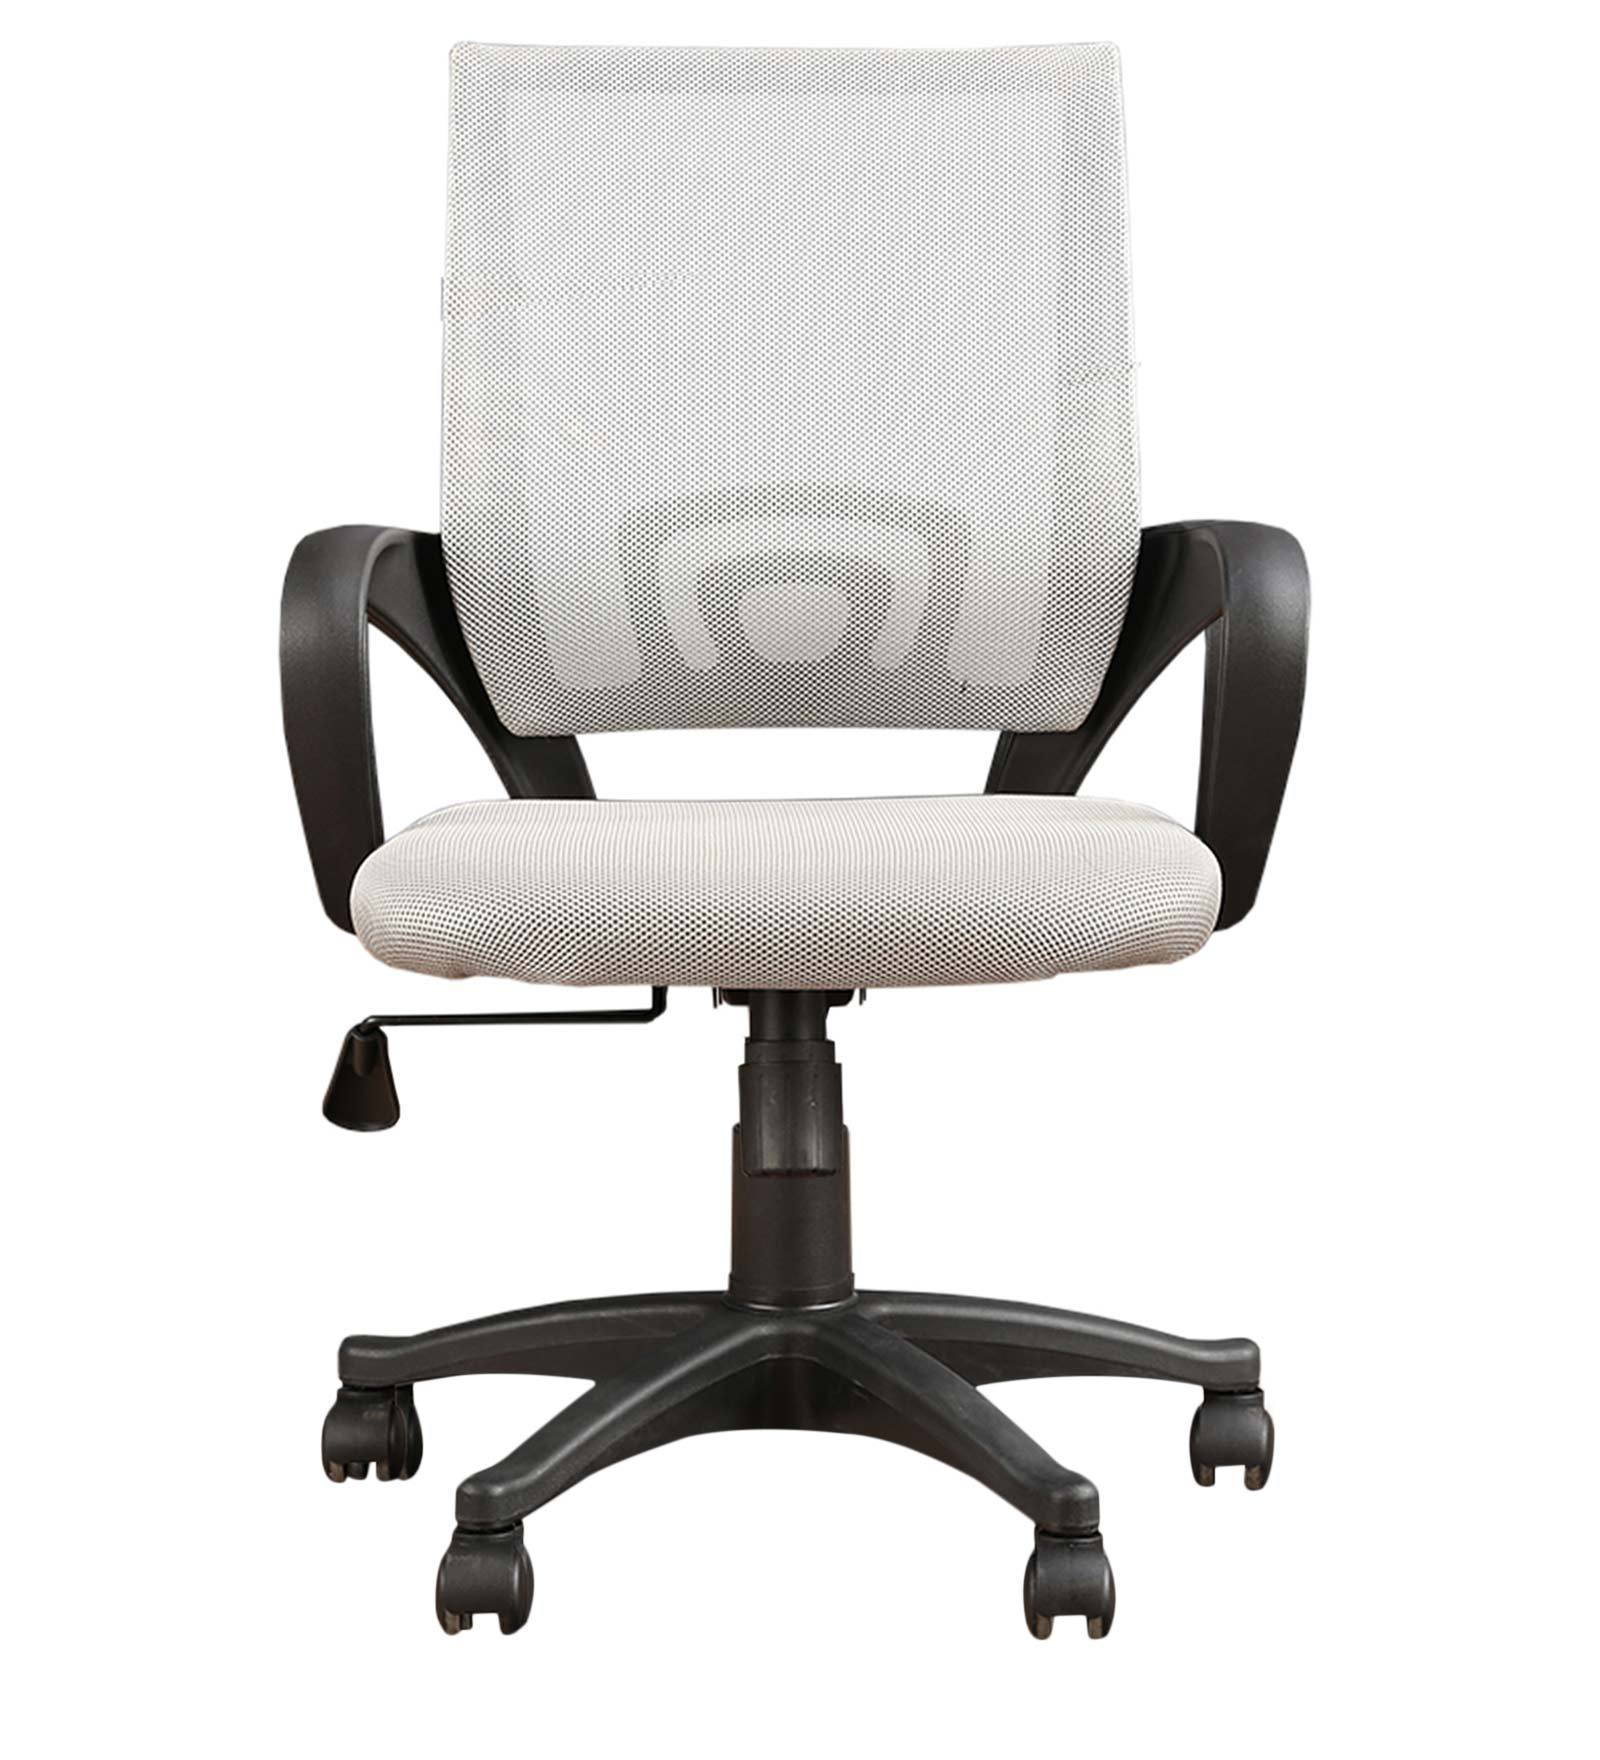Bolton Low Back Ergonomic Chair in Grey Colour by HomeTown: (236, 23, 1349, 1674)
